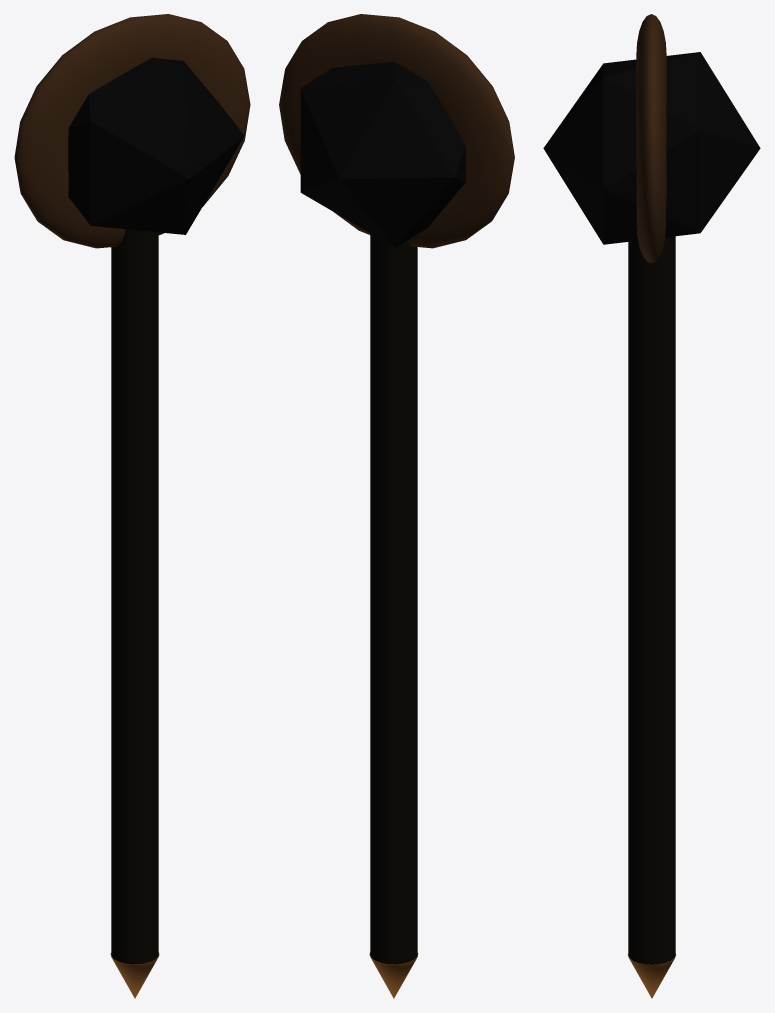
Rendered from sonunda_emire_asa_.fbx.
The picture shows the model from 3 angles, left to right: view 1: azimuth 30°, elevation 25°; view 2: azimuth 150°, elevation 25°; view 3: azimuth 270°, elevation 25°; orthographic projection.
Visible parts, largest first — view 1: pCone2; view 2: pCone2; view 3: pCone2.
Boxes of the visible parts, x1,y1,x2,y2 form: pCone2: (14,14,250,998); pCone2: (279,14,514,998); pCone2: (543,14,760,998).
Size of the model in its own units: 0.7746 by 3.09 by 0.6267.
